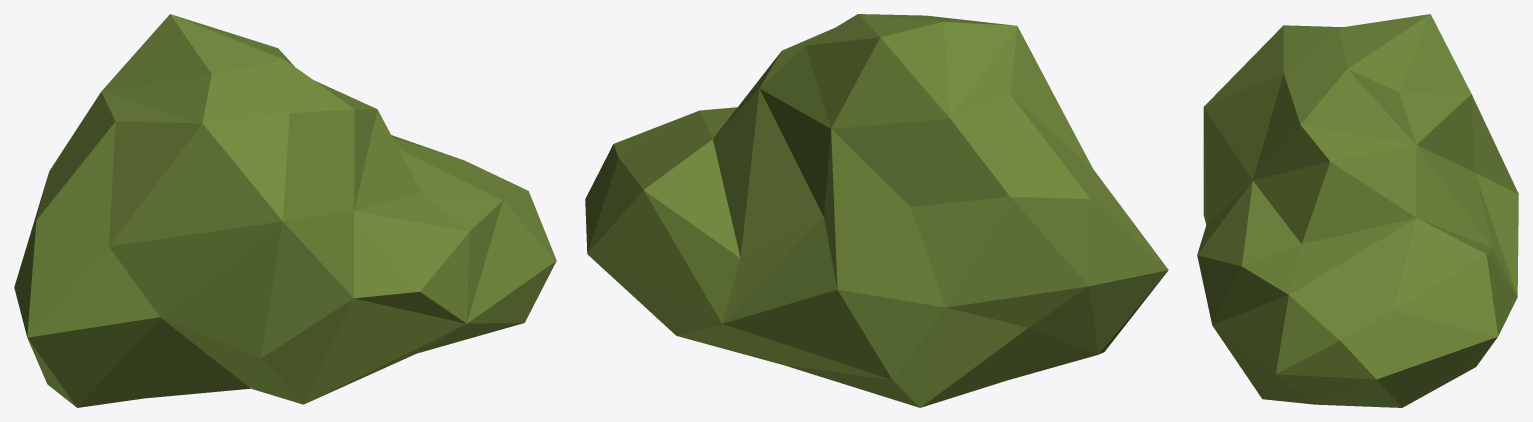
Rendered from Bush_3.fbx.
3 views of the same model, side by side, from view 1: azimuth 30°, elevation 25°; view 2: azimuth 150°, elevation 25°; view 3: azimuth 270°, elevation 25° (orthographic). The views are drawn at different scales.
Parts seen in each view (by area): view 1: Bush_3; view 2: Bush_3; view 3: Bush_3.
Boxes of the visible parts, box(x1,y1,x2,y2) form: Bush_3: box(14, 14, 556, 407); Bush_3: box(585, 14, 1168, 407); Bush_3: box(1197, 14, 1518, 407).
Bounding box in the file's own units: 219 × 124 × 130.
